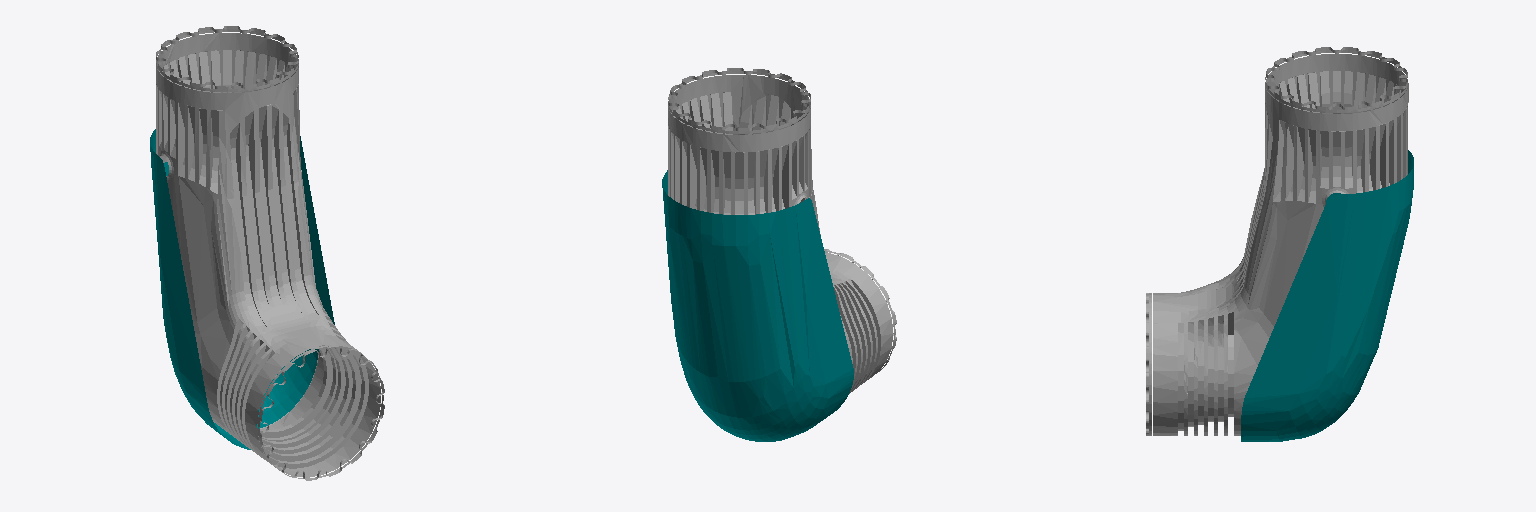
File: arm-L2-mirror.obj
3 views of the same model, side by side, from view 1: azimuth 30°, elevation 25°; view 2: azimuth 150°, elevation 25°; view 3: azimuth 270°, elevation 25° (orthographic).
Parts seen in each view (by area): view 1: __TMPOBJ_____TMPMESH__.059; view 2: __TMPOBJ_____TMPMESH__.059; view 3: __TMPOBJ_____TMPMESH__.059.
Part boxes in pixels (x1,y1,x2,y2): __TMPOBJ_____TMPMESH__.059: (150, 26, 384, 480); __TMPOBJ_____TMPMESH__.059: (662, 68, 896, 441); __TMPOBJ_____TMPMESH__.059: (1146, 47, 1413, 441).
Bounding box in the file's own units: 0.0808 × 0.2037 × 0.1387.